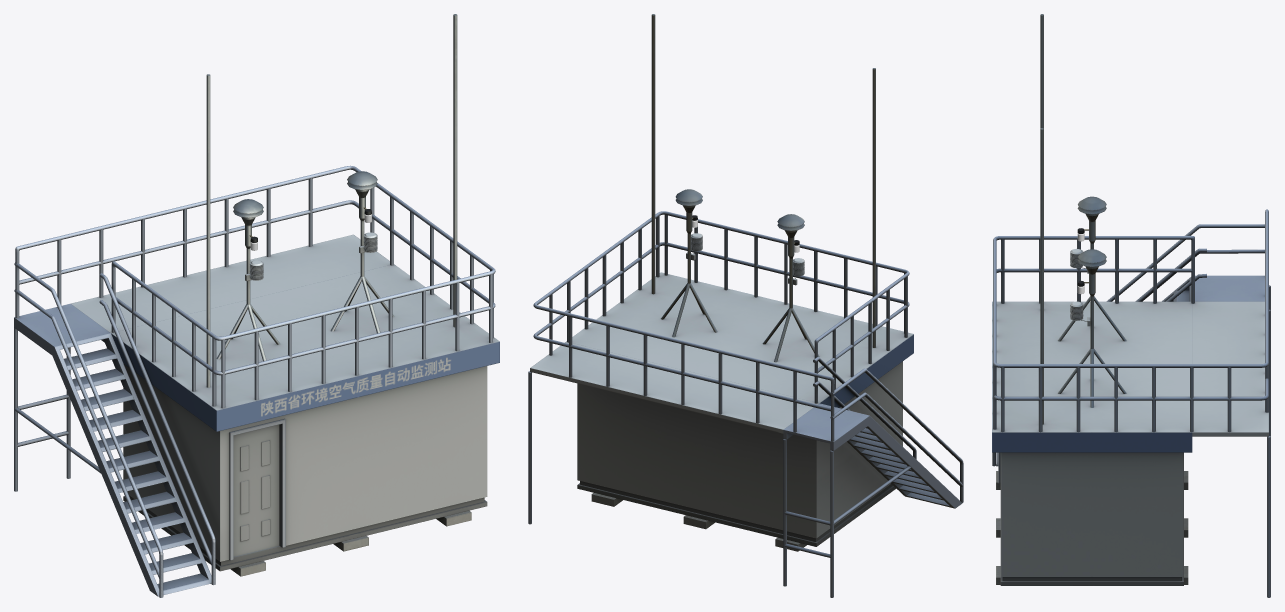
The model's file is daqizhan.glb.
3 renders of one model, left to right at view 1: azimuth 30°, elevation 25°; view 2: azimuth 150°, elevation 25°; view 3: azimuth 270°, elevation 25°, orthographic. The views are drawn at different scales.
Parts seen in each view (by area): view 1: DAQIZHAN_F03:separated_28; view 2: DAQIZHAN_F03:separated_28; view 3: DAQIZHAN_F03:separated_28.
Boxes of the visible parts, left/top/right/bottom form: DAQIZHAN_F03:separated_28: left=14, top=14, right=499, bottom=597; DAQIZHAN_F03:separated_28: left=528, top=14, right=963, bottom=597; DAQIZHAN_F03:separated_28: left=992, top=14, right=1270, bottom=597.
Size of the model in its own units: 1.77 by 2.41 by 1.32.
Materials: 2 (1 with a texture image).
